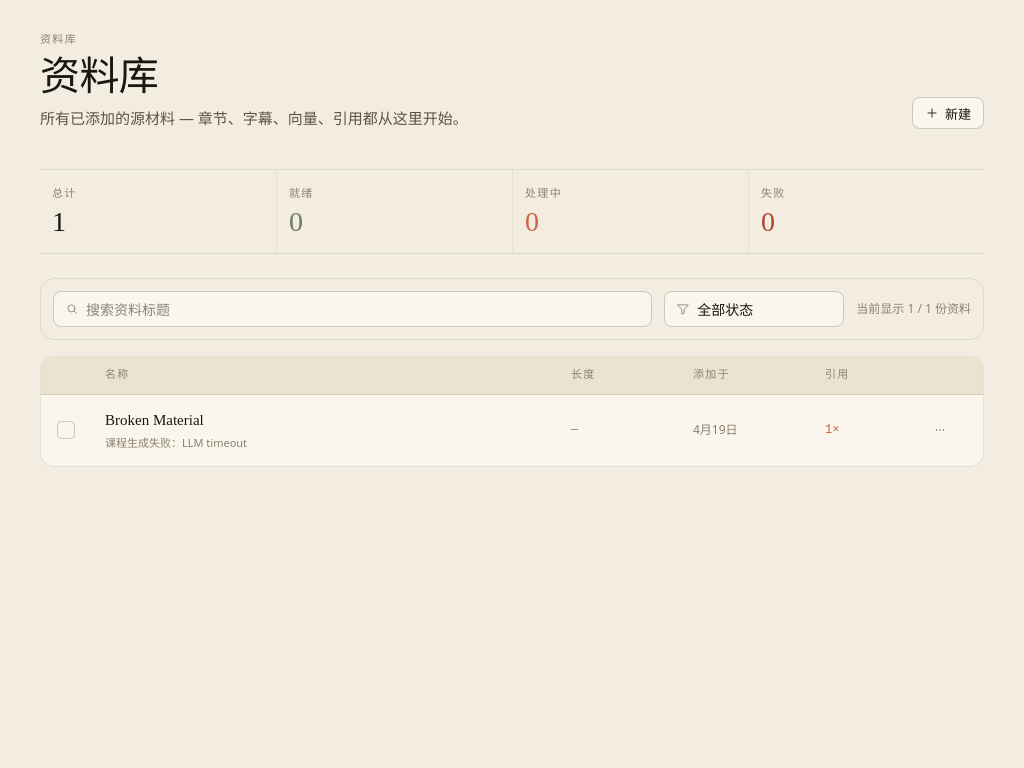
Test: /sources page › does not show enter-course CTA when the derived state is failed
Click the text "Broken Material". click: x=154, y=420
box: [105,412,204,428]
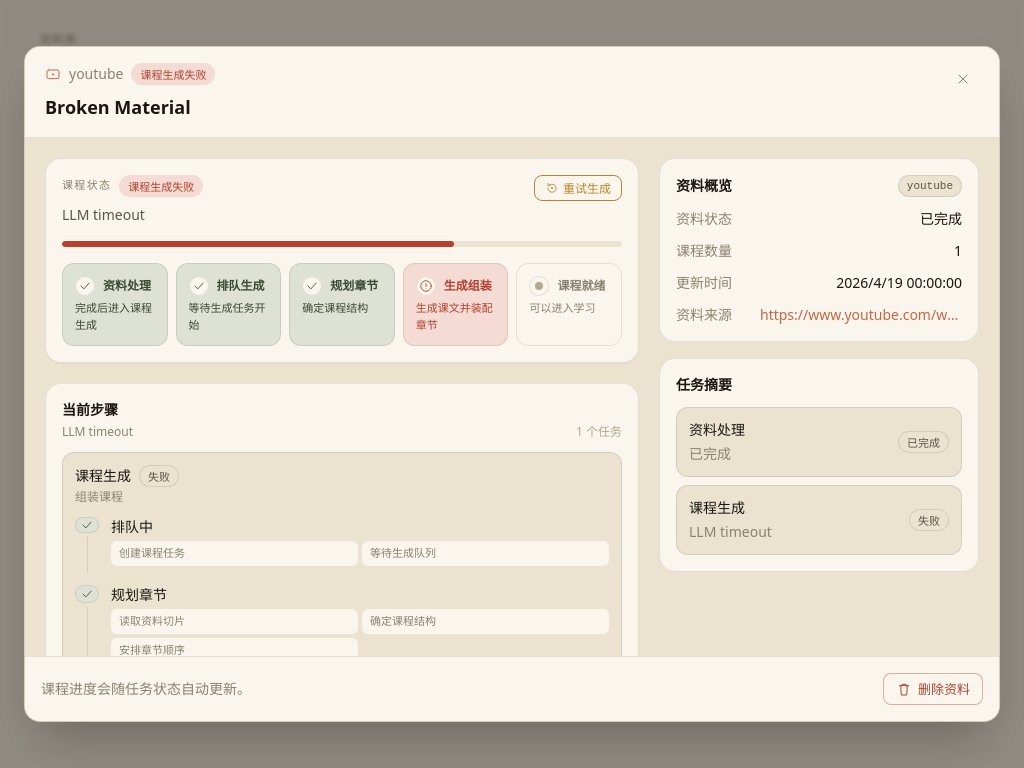
Result: the text "课程状态" is shown at [62,178,111,194]
Result: the 1st text "课程生成失败" is shown at [132,63,216,85]
Result: the text "资料来源" is shown at [676,305,732,324]
